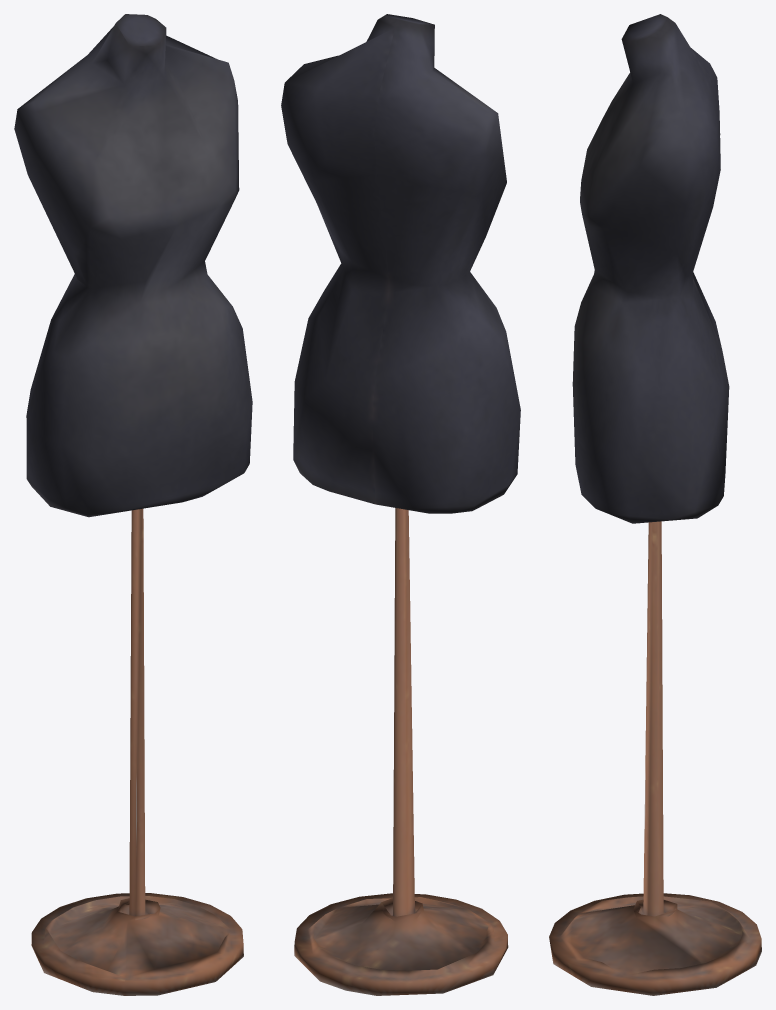
The model's file is hw_pop_mannequin.glb.
3 renders of one model, left to right at view 1: azimuth 30°, elevation 25°; view 2: azimuth 150°, elevation 25°; view 3: azimuth 270°, elevation 25°, orthographic.
Visible parts, largest first — view 1: Avatar_Man2_0; view 2: Avatar_Man2_0; view 3: Avatar_Man2_0.
Boxes of the visible parts, x1=… form: Avatar_Man2_0: x1=14, y1=14, x2=252, y2=995; Avatar_Man2_0: x1=281, y1=14, x2=520, y2=995; Avatar_Man2_0: x1=549, y1=14, x2=761, y2=995.
Bounding box in the file's own units: 0.3149 × 1.39 × 0.2881.
1 material, 1 textured.
